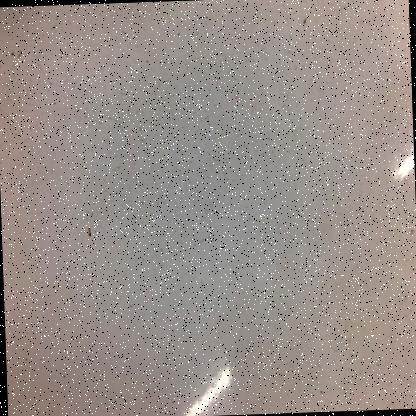Nocrack: (2, 0, 410, 404)
